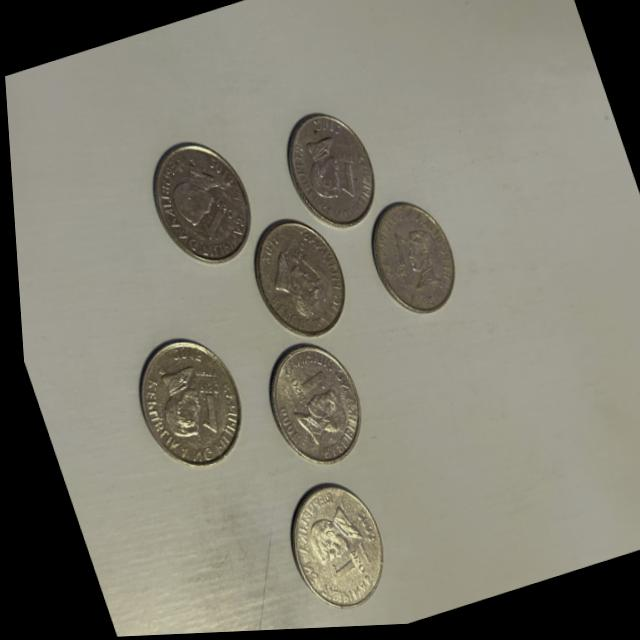1_Old_Front: (263, 225, 331, 307), (174, 365, 233, 446), (274, 350, 330, 414), (182, 185, 237, 245), (317, 140, 364, 207), (312, 540, 367, 597), (371, 225, 418, 286)
